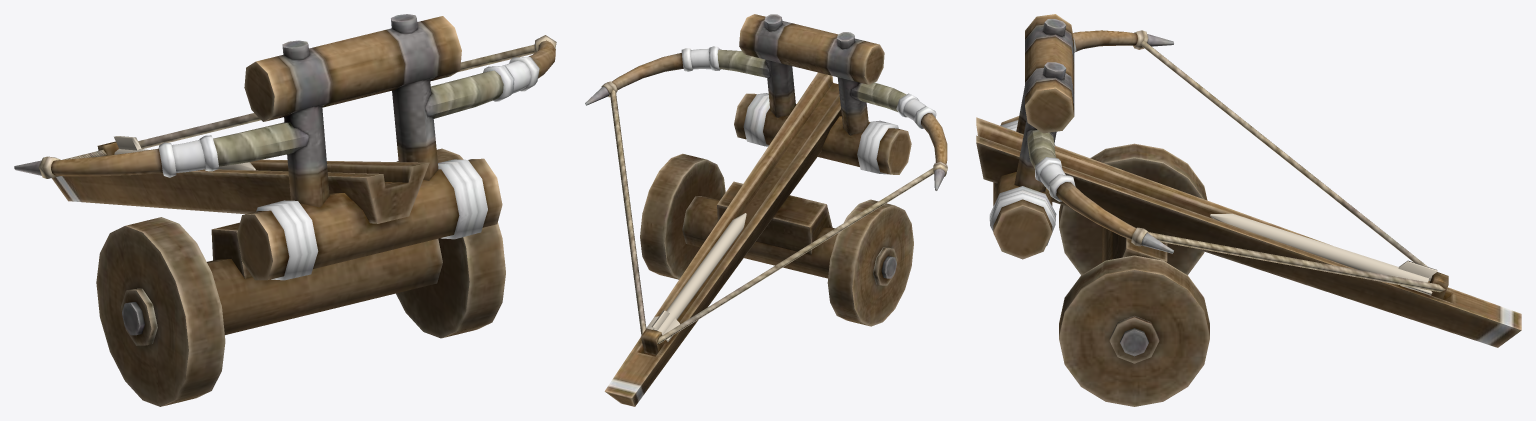
File: 229-ballista.glb
3 views of the same model, side by side, from view 1: azimuth 30°, elevation 25°; view 2: azimuth 150°, elevation 25°; view 3: azimuth 270°, elevation 25° (orthographic). The views are drawn at different scales.
Size of the model in its own units: 3.37 by 2.25 by 3.7.
2 materials, 1 textured.
